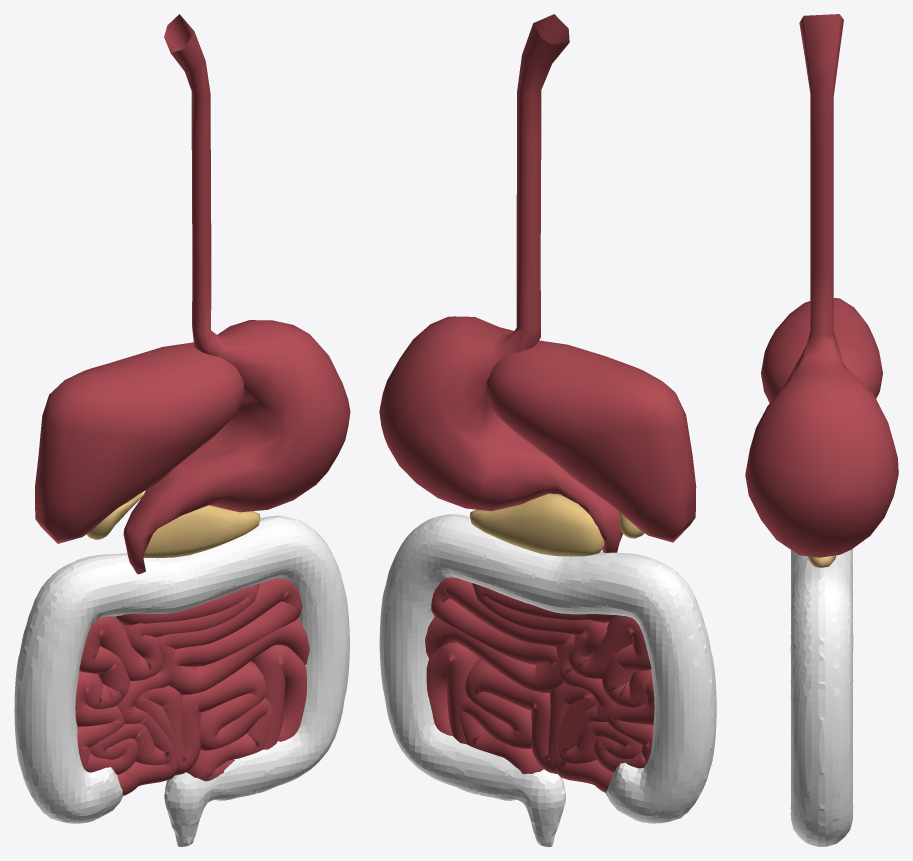
File: outside.glb
3 renders of one model, left to right at view 1: azimuth 30°, elevation 25°; view 2: azimuth 150°, elevation 25°; view 3: azimuth 270°, elevation 25°, orthographic.
Visible parts, largest first — view 1: LargeIntestine, SmalllIntestine, Stomach, Liver, Cube, GallBlader; view 2: LargeIntestine, SmalllIntestine, Stomach, Liver, Cube; view 3: Stomach, LargeIntestine, Liver.
Part boxes in pixels (x1,y1,x2,y2): LargeIntestine: [14, 515, 349, 846]; SmalllIntestine: [75, 578, 309, 795]; Stomach: [123, 14, 350, 574]; Liver: [35, 342, 244, 543]; Cube: [143, 505, 260, 558]; GallBlader: [86, 493, 144, 539]; LargeIntestine: [379, 514, 716, 846]; SmalllIntestine: [425, 577, 654, 792]; Stomach: [379, 14, 622, 552]; Liver: [486, 340, 696, 542]; Cube: [469, 493, 604, 556]; Stomach: [745, 14, 898, 557]; LargeIntestine: [790, 549, 853, 846]; Liver: [761, 298, 882, 402].
Size of the model in its own units: 0.5916 by 1.42 by 0.2394.
